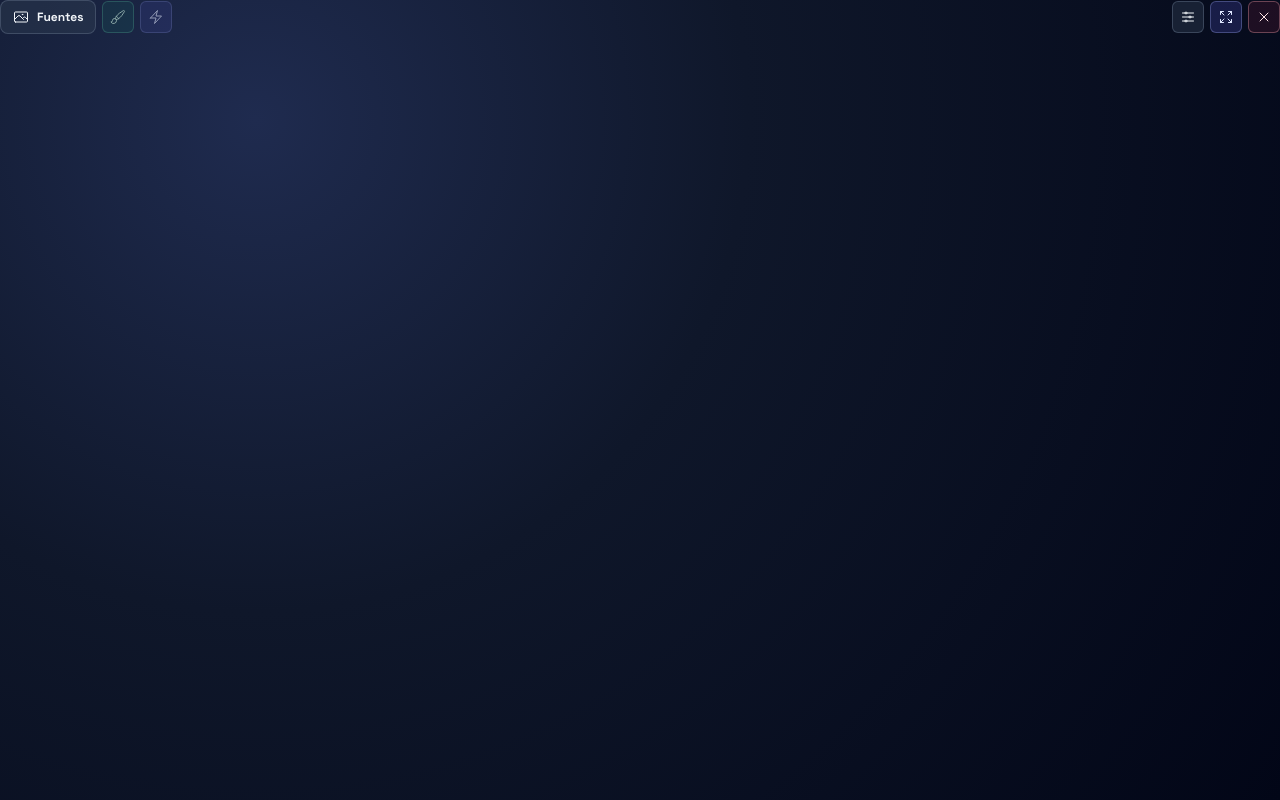
Scenario: MonitorControls › divide el editor en tabs accesibles y muestra reset solo en Transformacion
Click the button with test id "monitor-open-content-editor": {"x": 1188, "y": 17} [1172,1,1204,33]
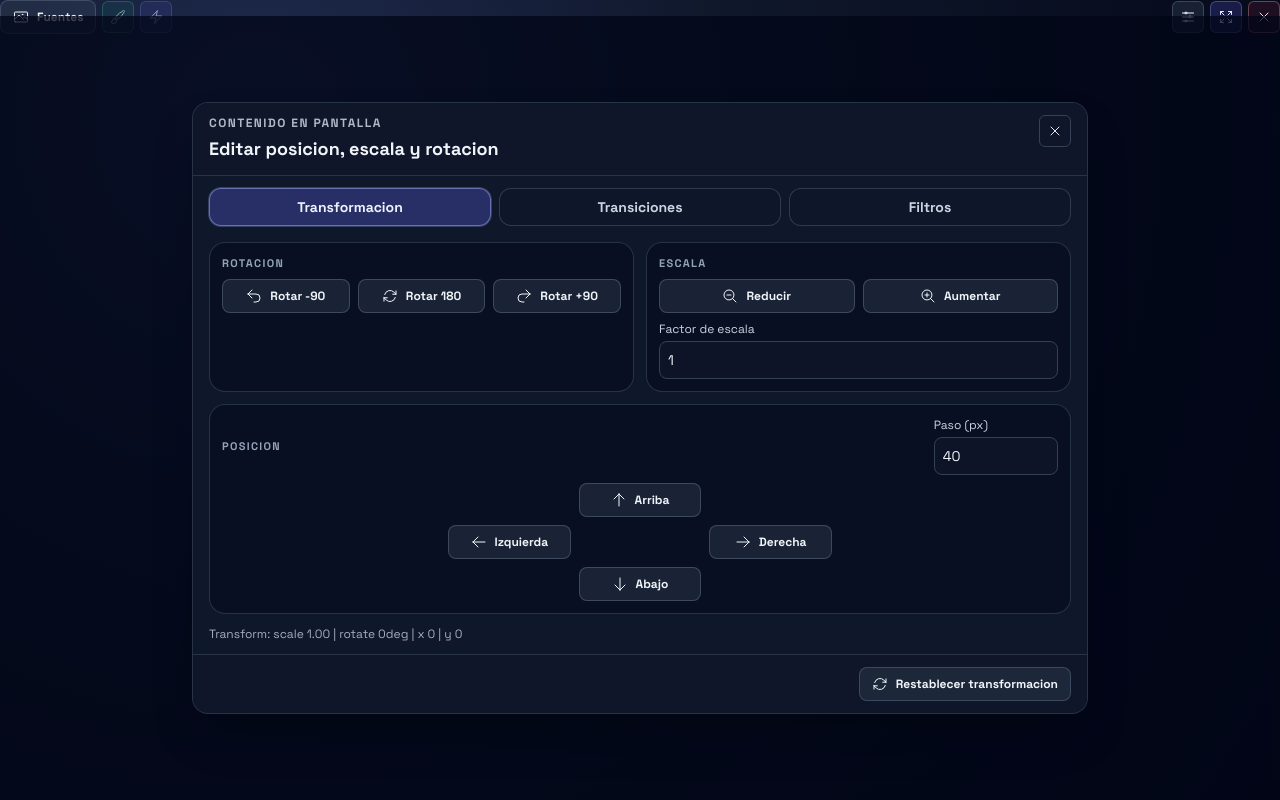
Expected: the panel with test id "monitor-content-panel-transform" is shown, [209,242,1071,642]
Expected: the button with test id "monitor-content-editor-reset" is shown, [859,667,1071,701]
Click the tab with test id "monitor-content-tab-transitions": {"x": 640, "y": 207} [499,188,781,226]
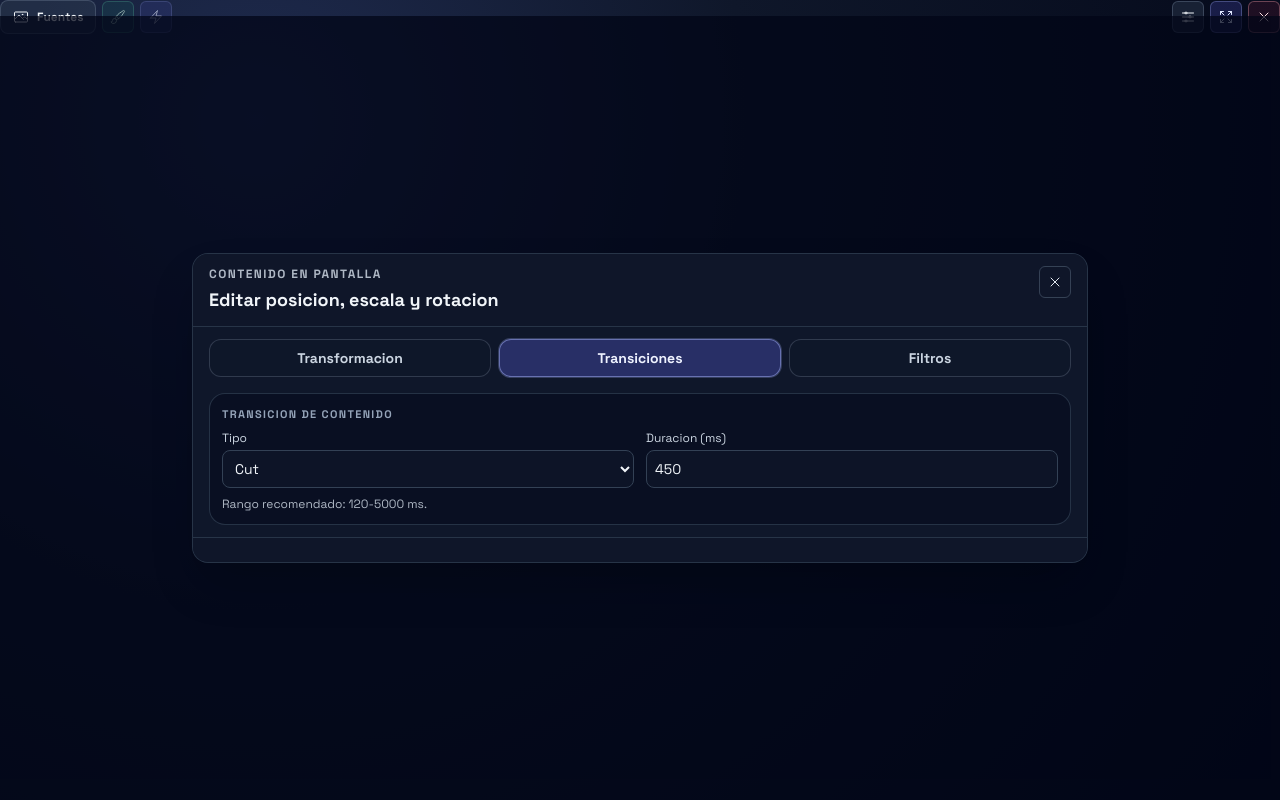
Expected: the panel with test id "monitor-content-panel-transitions" is shown, [209,393,1071,525]
Click the tab with test id "monitor-content-tab-filters": {"x": 930, "y": 358} [789,339,1071,377]
(page scrolled)
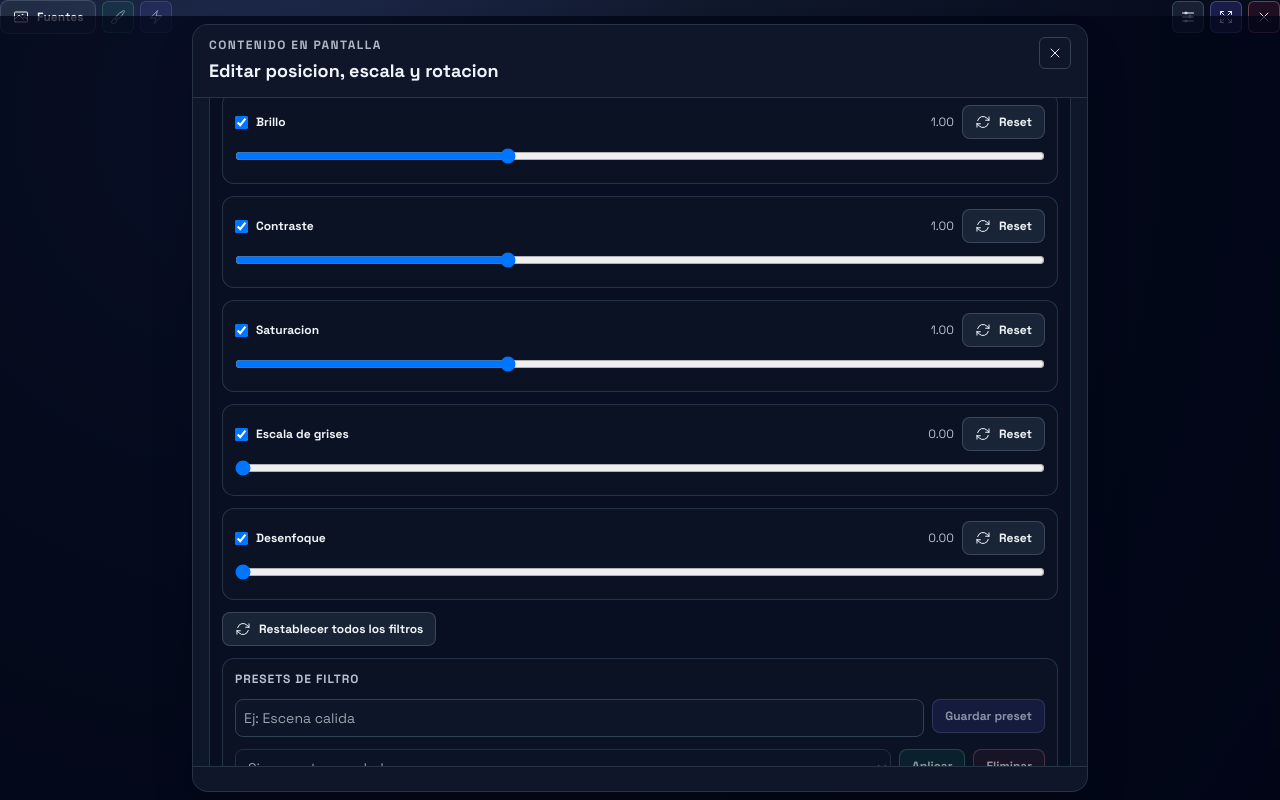
Expected: the panel with test id "monitor-content-panel-filters" is shown, [209,98,1071,766]
